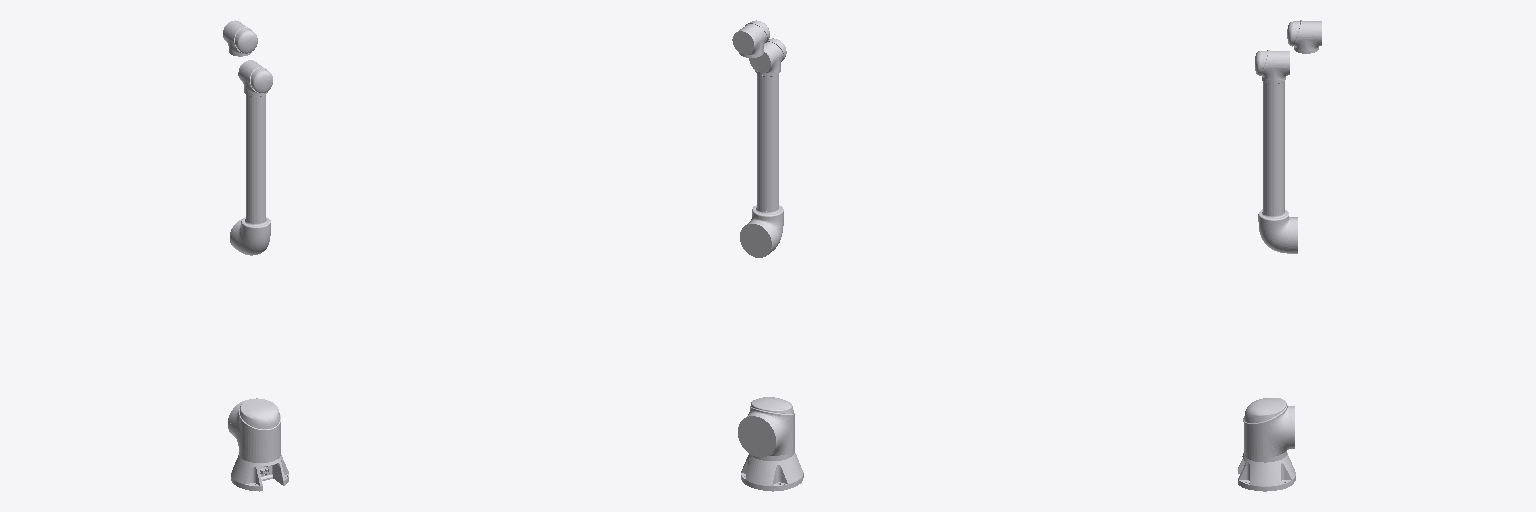
The robot description file, URDF, robot "gcr25_1800":
<?xml version="1.0" encoding="utf-8"?>
<!-- This URDF was automatically created by SolidWorks to URDF Exporter! Originally created by [author] ([email redacted]) 
     Commit Version: 1.6.0-4-g7f85cfe  Build Version: 1.6.7995.38578
     For more information, please see http://wiki.ros.org/sw_urdf_exporter -->
<robot
  name="gcr25_1800">
  <link
    name="base_link">
    <inertial>
      <origin
        xyz="3.016E-05 0.00555152 0.0594168"
        rpy="0 0 0" />
      <mass
        value="3.749" />
      <inertia
        ixx="0.01876853"
        ixy="3.385E-05"
        ixz="-5.56E-06"
        iyy="0.02193191"
        iyz="-0.00047489"
        izz="0.03036275" />
    </inertial>
    <visual>
      <origin
        xyz="0 0 0"
        rpy="0 0 0" />
      <geometry>
        <mesh
          filename="package://duco_support/meshes/GCR25_1800/base_link.STL" />
      </geometry>
      <material
        name="">
        <color
          rgba="0.86667 0.86667 0.8902 1" />
      </material>
    </visual>
    <collision>
      <origin
        xyz="0 0 0"
        rpy="0 0 0" />
      <geometry>
        <mesh
          filename="package://duco_support/meshes/GCR25_1800/base_link.STL" />
      </geometry>
    </collision>
  </link>
  <link
    name="link_1">
    <inertial>
      <origin
        xyz="-0.001858 0.004336 -0.03224"
        rpy="0 0 0" />
      <mass
        value="14.329" />
      <inertia
        ixx="6.7793598E-05"
        ixy="1.098666E-06"
        ixz="-1.834036E-06"
        iyy="6.2073899E-05"
        iyz="4.856218E-06"
        izz="7.1073E-05" />
    </inertial>
    <visual>
      <origin
        xyz="0 0 0"
        rpy="0 0 0" />
      <geometry>
        <mesh
          filename="package://duco_support/meshes/GCR25_1800/link_1.STL" />
      </geometry>
      <material
        name="">
        <color
          rgba="0.86667 0.86667 0.8902 1" />
      </material>
    </visual>
    <collision>
      <origin
        xyz="0 0 0"
        rpy="0 0 0" />
      <geometry>
        <mesh
          filename="package://duco_support/meshes/GCR25_1800/link_1.STL" />
      </geometry>
    </collision>
  </link>
  <joint
    name="arm_1_joint_1"
    type="revolute">
    <origin
      xyz="0 0 0.235"
      rpy="0 0 0" />
    <parent
      link="base_link" />
    <child
      link="link_1" />
    <axis
      xyz="0 0 1" />
    <limit
      lower="-3.1415926535"
      upper="3.1415926535"
      effort="850"
      velocity="2.094395102" />
  </joint>
  <link
    name="link_2">
    <inertial>
      <origin
        xyz="0.35721 1.6E-05 0.024567"
        rpy="0 0 0" />
      <mass
        value="28.899" />
      <inertia
        ixx="0.00011843"
        ixy="5.2512E-08"
        ixz="4.5878594E-05"
        iyy="0.0047051459"
        iyz="-3.261958E-05"
        izz="0.0047030105" />
    </inertial>
    <visual>
      <origin
        xyz="0 0 0"
        rpy="0 0 0" />
      <geometry>
        <mesh
          filename="package://duco_support/meshes/GCR25_1800/link_2.STL" />
      </geometry>
      <material
        name="">
        <color
          rgba="0.86667 0.86667 0.8902 1" />
      </material>
    </visual>
    <collision>
      <origin
        xyz="0 0 0"
        rpy="0 0 0" />
      <geometry>
        <mesh
          filename="package://duco_support/meshes/GCR25_1800/link_2.STL" />
      </geometry>
    </collision>
  </link>
  <joint
    name="arm_1_joint_2"
    type="revolute">
    <origin
      xyz="0 0.1693 0"
      rpy="1.5708 -1.5708 3.1416" />
    <parent
      link="link_1" />
    <child
      link="link_2" />
    <axis
      xyz="0 0 1" />
    <limit
      lower="-3.1415926535"
      upper="3.1415926535"
      effort="850"
      velocity="1.745329252" />
  </joint>
  <link
    name="link_3">
    <inertial>
      <origin
        xyz="0.48726 2.4E-05 -0.1223"
        rpy="0 0 0" />
      <mass
        value="7.154" />
      <inertia
        ixx="1.6256E-05"
        ixy="-7.718E-09"
        ixz="2.782118E-06"
        iyy="0.00076213094"
        iyz="4.2577E-08"
        izz="0.00076015139" />
    </inertial>
    <visual>
      <origin
        xyz="0 0 0"
        rpy="0 0 0" />
      <geometry>
        <mesh
          filename="package://duco_support/meshes/GCR25_1800/link_3.STL" />
      </geometry>
      <material
        name="">
        <color
          rgba="0.86667 0.86667 0.8902 1" />
      </material>
    </visual>
    <collision>
      <origin
        xyz="0 0 0"
        rpy="0 0 0" />
      <geometry>
        <mesh
          filename="package://duco_support/meshes/GCR25_1800/link_3.STL" />
      </geometry>
    </collision>
  </link>
  <joint
    name="arm_1_joint_3"
    type="revolute">
    <origin
      xyz="0.8775 0 0"
      rpy="0 0 0" />
    <parent
      link="link_2" />
    <child
      link="link_3" />
    <axis
      xyz="0 0 1" />
    <limit
      lower="-3.1415926535"
      upper="3.1415926535"
      effort="440"
      velocity="2.6179938" />
  </joint>
  <link
    name="link_4">
    <inertial>
      <origin
        xyz="-5.8E-05 -0.01869 -0.003118"
        rpy="0 0 0" />
      <mass
        value="3.087" />
      <inertia
        ixx="5.7212E-06"
        ixy="-1.9644E-07"
        ixz="1.3952E-08"
        iyy="3.7351E-06"
        iyz="-9.081E-09"
        izz="5.5762E-06" />
    </inertial>
    <visual>
      <origin
        xyz="0 0 0"
        rpy="0 0 0" />
      <geometry>
        <mesh
          filename="package://duco_support/meshes/GCR25_1800/link_4.STL" />
      </geometry>
      <material
        name="">
        <color
          rgba="0.86667 0.86667 0.8902 1" />
      </material>
    </visual>
    <collision>
      <origin
        xyz="0 0 0"
        rpy="0 0 0" />
      <geometry>
        <mesh
          filename="package://duco_support/meshes/GCR25_1800/link_4.STL" />
      </geometry>
    </collision>
  </link>
  <joint
    name="arm_1_joint_4"
    type="revolute">
    <origin
      xyz="0.788 0 0"
      rpy="0 0 1.5708" />
    <parent
      link="link_3" />
    <child
      link="link_4" />
    <axis
      xyz="0 0 1" />
    <limit
      lower="-3.1415926535"
      upper="3.1415926535"
      effort="115"
      velocity="3.926990817" />
  </joint>
  <link
    name="link_5">
    <inertial>
      <origin
        xyz="5.8E-05 0.01869 -0.003118"
        rpy="0 0 0" />
      <mass
        value="3.087" />
      <inertia
        ixx="5.7212E-06"
        ixy="1.9644E-07"
        ixz="-1.3952E-08"
        iyy="3.7351E-06"
        iyz="-9.081E-09"
        izz="5.5762E-06" />
    </inertial>
    <visual>
      <origin
        xyz="0 0 0"
        rpy="0 0 0" />
      <geometry>
        <mesh
          filename="package://duco_support/meshes/GCR25_1800/link_5.STL" />
      </geometry>
      <material
        name="">
        <color
          rgba="0.86667 0.86667 0.8902 1" />
      </material>
    </visual>
    <collision>
      <origin
        xyz="0 0 0"
        rpy="0 0 0" />
      <geometry>
        <mesh
          filename="package://duco_support/meshes/GCR25_1800/link_5.STL" />
      </geometry>
    </collision>
  </link>
  <joint
    name="arm_1_joint_5"
    type="revolute">
    <origin
      xyz="0 -0.1345 0"
      rpy="1.5708 0 0" />
    <parent
      link="link_4" />
    <child
      link="link_5" />
    <axis
      xyz="0 0 1" />
    <limit
      lower="-3.1415926535"
      upper="3.1415926535"
      effort="115"
      velocity="3.926990817" />
  </joint>
  <link
    name="link_6">
    <inertial>
      <origin
        xyz="-0.000199 0.000637 -0.02506"
        rpy="0 0 0" />
      <mass
        value="0.515" />
      <inertia
        ixx="5.0571E-07"
        ixy="4.421E-09"
        ixz="1.496E-09"
        iyy="5.0199E-07"
        iyz="-1.65E-10"
        izz="8.0593E-07" />
    </inertial>
    <visual>
      <origin
        xyz="0 0 0"
        rpy="0 0 0" />
      <geometry>
        <mesh
          filename="package://duco_support/meshes/GCR25_1800/link_6.STL" />
      </geometry>
      <material
        name="">
        <color
          rgba="0.86667 0.86667 0.8902 1" />
      </material>
    </visual>
    <collision>
      <origin
        xyz="0 0 0"
        rpy="0 0 0" />
      <geometry>
        <mesh
          filename="package://duco_support/meshes/GCR25_1800/link_6.STL" />
      </geometry>
    </collision>
  </link>
  <joint
    name="arm_1_joint_6"
    type="revolute">
    <origin
      xyz="0 0.121 0"
      rpy="-1.5708 0 0" />
    <parent
      link="link_5" />
    <child
      link="link_6" />
    <axis
      xyz="0 0 1" />
    <limit
      lower="-3.1415926535"
      upper="3.1415926535"
      effort="115"
      velocity="3.926990817" />
  </joint>
</robot>

--- What the picture shows (computed from the rendered views, not written in the file) ---
3 views of the same robot in one strip: view 1: azimuth 30°, elevation 25°; view 2: azimuth 150°, elevation 25°; view 3: azimuth 270°, elevation 25° (orthographic).
Model gcr25_1800 with 7 links and 6 joints (6 revolute), rooted at base_link, posed all joints at 0.
Visible links, largest first — view 1: link_3, link_1, base_link, link_5; view 2: link_3, link_1, base_link, link_5; view 3: link_3, link_1, base_link, link_5.
Link boxes in pixels (left/top/right/bottom): link_3: left=230, top=60, right=272, bottom=255; link_1: left=228, top=398, right=280, bottom=457; base_link: left=231, top=451, right=288, bottom=491; link_5: left=223, top=20, right=257, bottom=56; link_3: left=740, top=38, right=786, bottom=257; link_1: left=738, top=397, right=794, bottom=457; base_link: left=741, top=448, right=803, bottom=491; link_5: left=732, top=20, right=769, bottom=57; link_3: left=1255, top=50, right=1297, bottom=253; link_1: left=1243, top=398, right=1294, bottom=456; base_link: left=1238, top=451, right=1295, bottom=491; link_5: left=1287, top=20, right=1321, bottom=53.
Bounding box of the posed robot: 0.252 × 0.3483 × 2.09 m (x, y, z).
Meshes: 7 distinct files referenced, 4 mesh visuals loaded (4 binary STL); not drawn: 3 (reference not matched to a file when rendering).